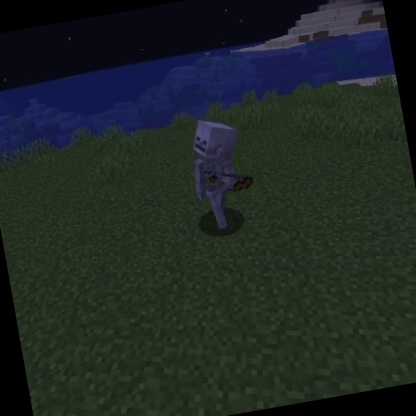skeleton: (178, 109, 267, 237)
